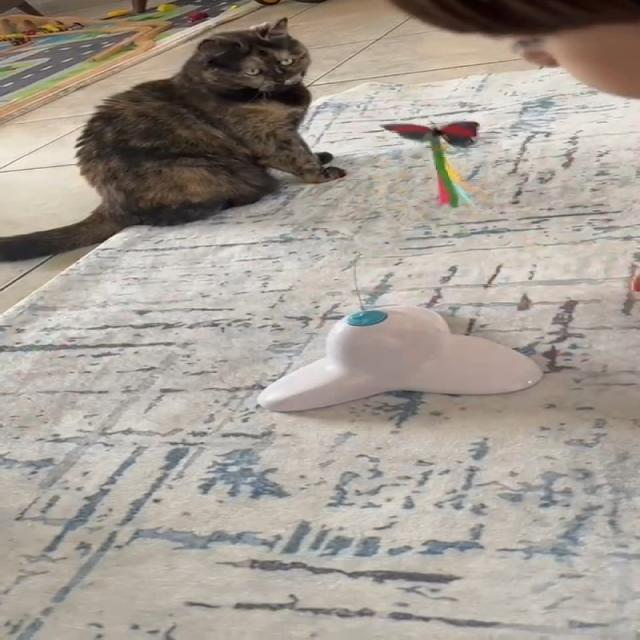authorized: (0, 16, 347, 262)
